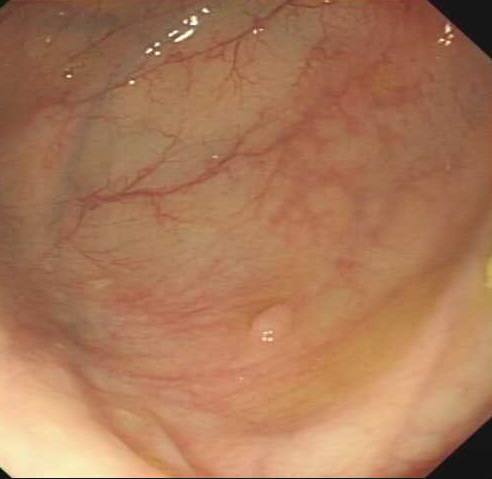others: (247, 300, 297, 343)
